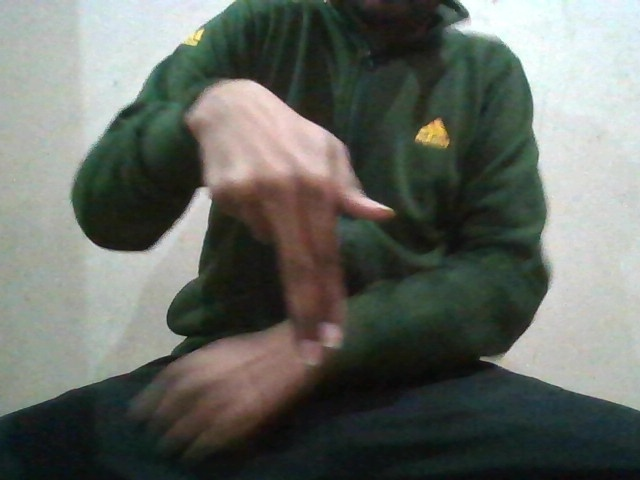Q: (210, 112, 384, 357)
